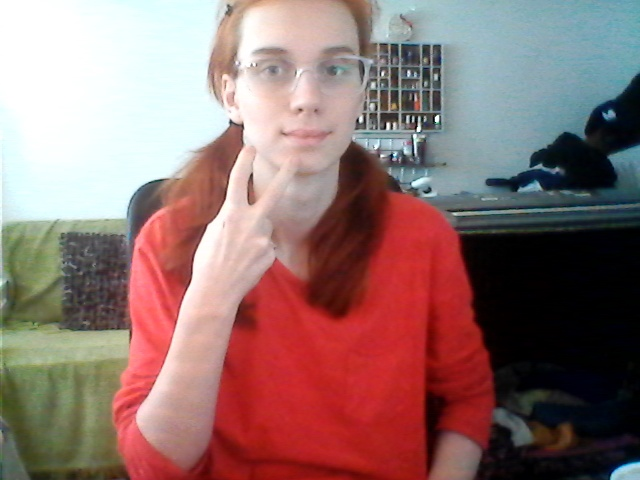usmievat: (202, 125, 364, 285)
